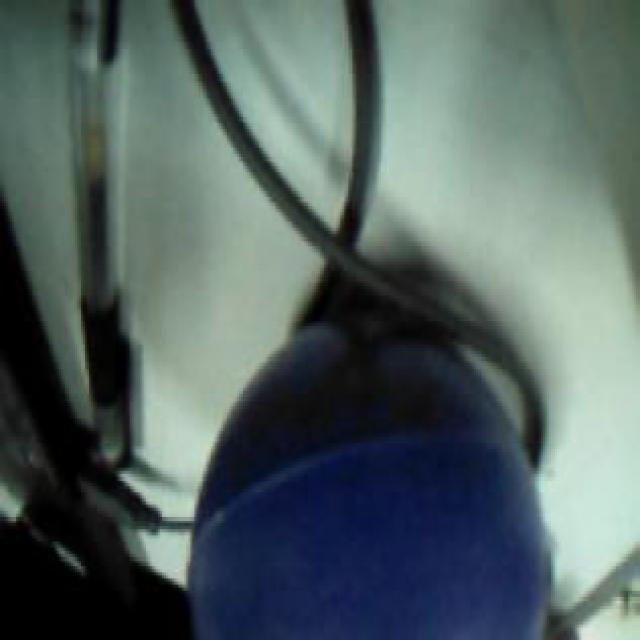BallPurple: (184, 320, 551, 640)
